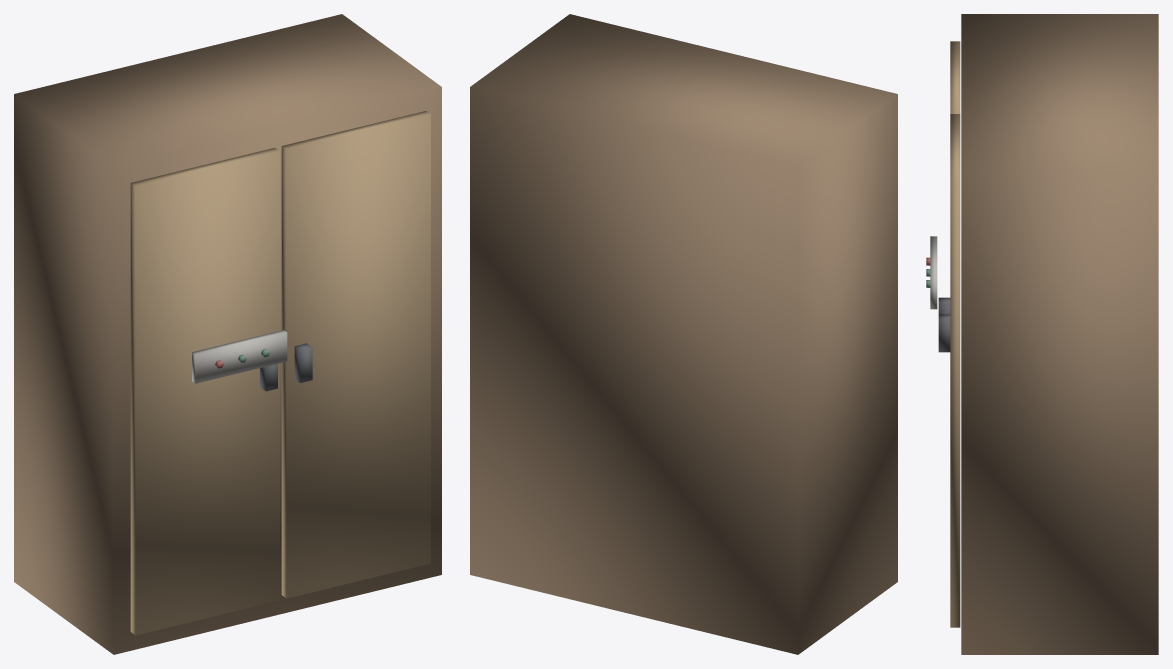
The model's file is lab_reagent_cabinet.glb.
The picture shows the model from 3 angles, left to right: view 1: azimuth 30°, elevation 25°; view 2: azimuth 150°, elevation 25°; view 3: azimuth 270°, elevation 25°; orthographic projection.
Parts seen in each view (by area): view 1: world; view 2: world; view 3: world.
Part boxes in pixels (bbox=[...]): world: bbox=[14, 14, 441, 654]; world: bbox=[470, 14, 897, 654]; world: bbox=[926, 14, 1158, 654].
Size of the model in its own units: 0.95 by 1.35 by 0.5885.
